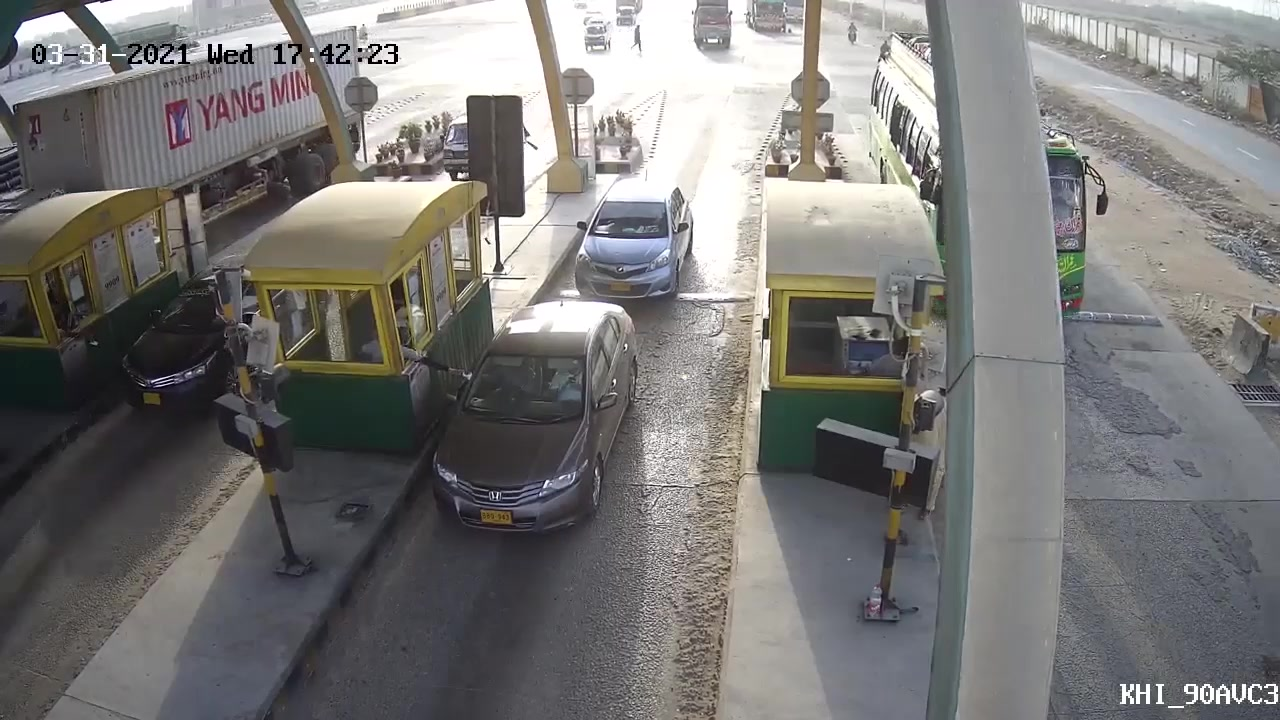F1: (420, 298, 643, 540), (570, 172, 699, 308)
